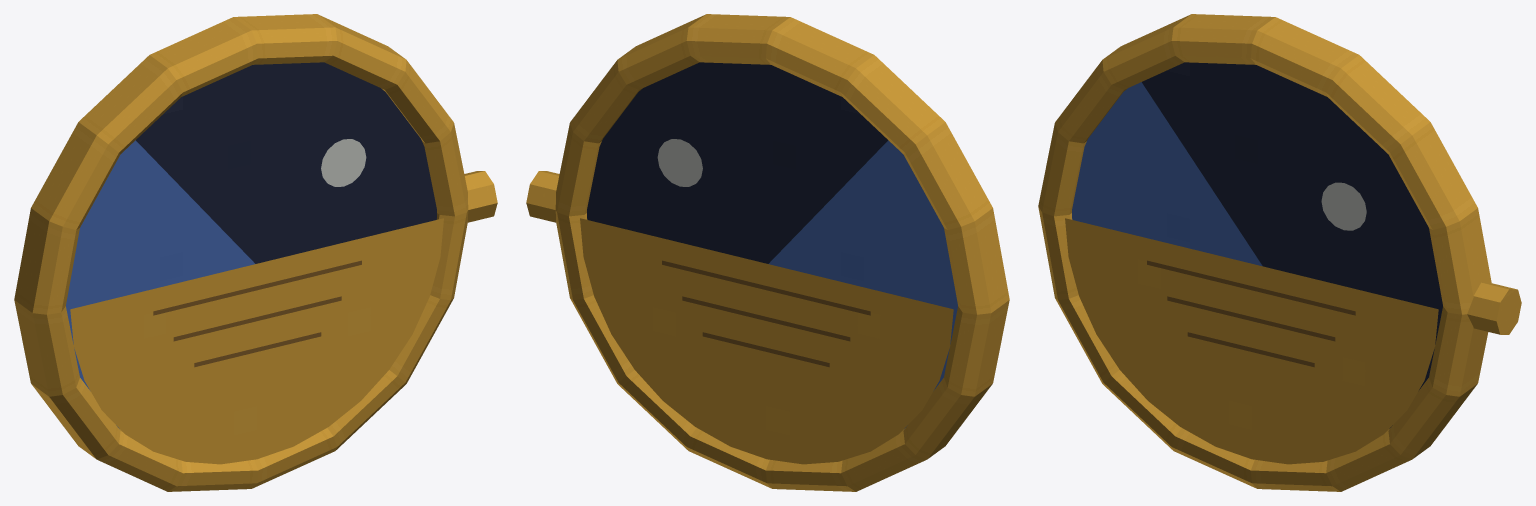
Rendered from clock_41.obj.
The picture shows the model from 3 angles, left to right: view 1: azimuth 30°, elevation 25°; view 2: azimuth 150°, elevation 25°; view 3: azimuth 330°, elevation 25°; orthographic projection.
Size of the model in its own units: 0.6363 by 0.6037 by 0.075.
